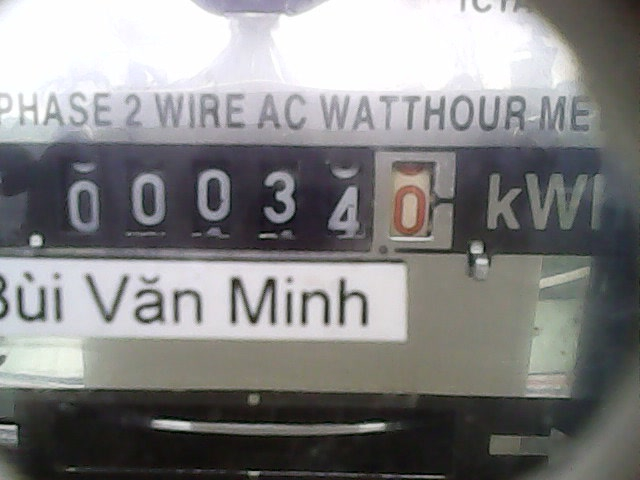phy_plate: (47, 138, 461, 255)
